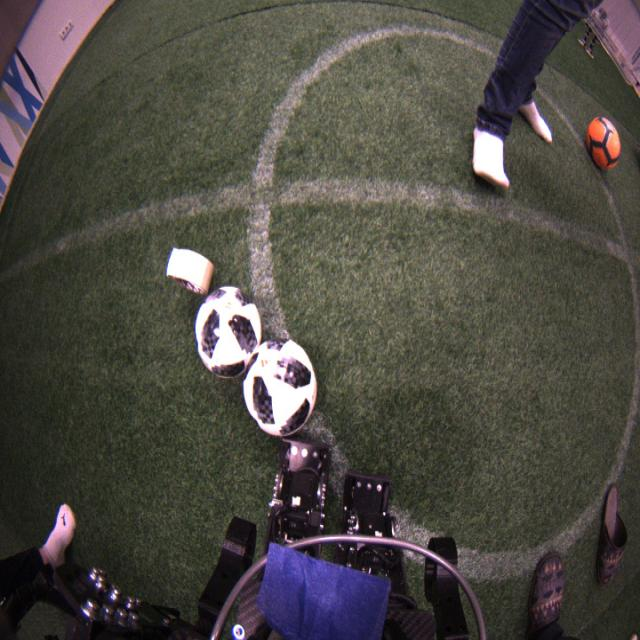ball: (242, 340, 319, 438), (196, 287, 262, 380), (587, 116, 621, 170)
